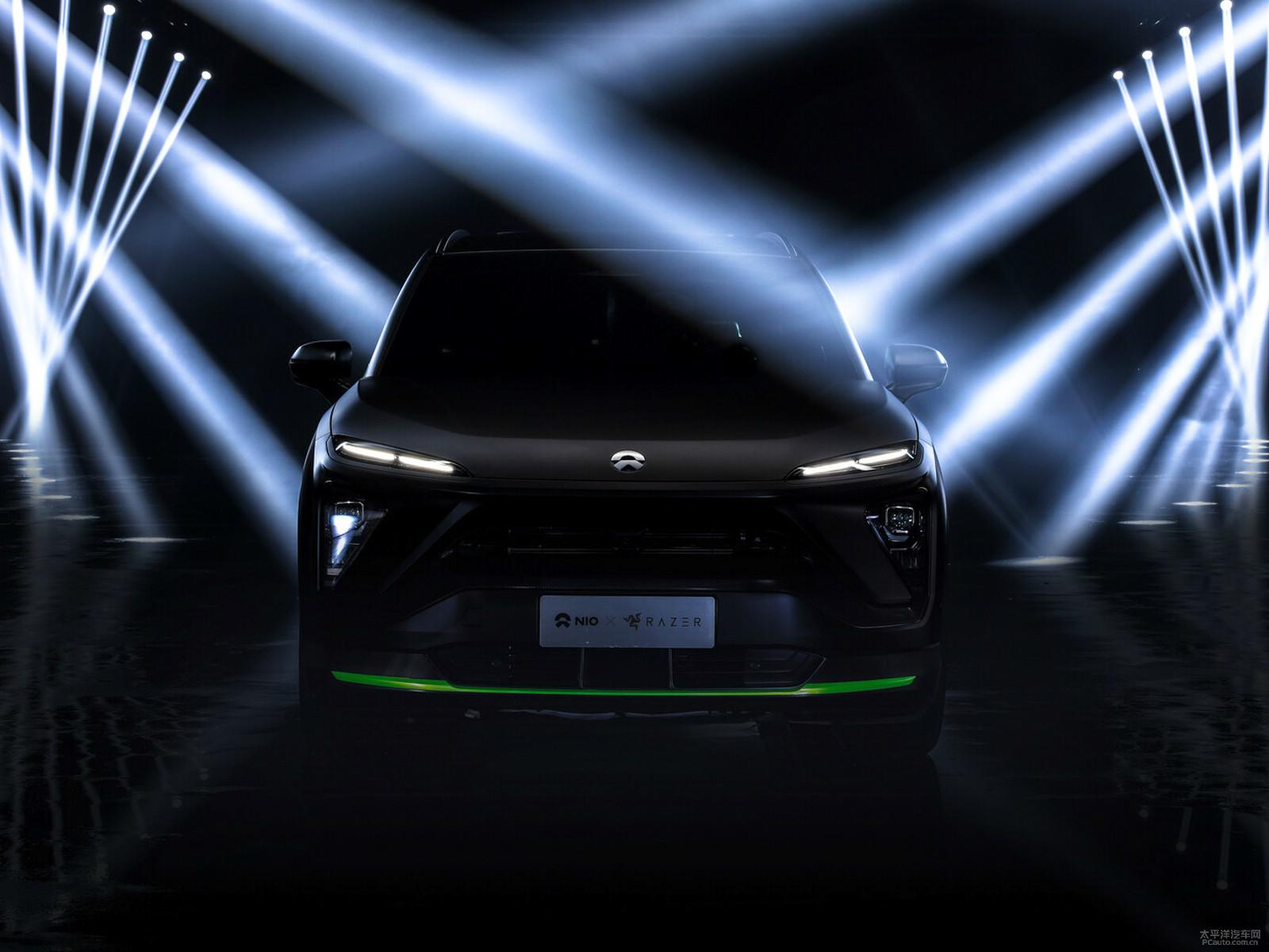NIO: (611, 450, 645, 470)
